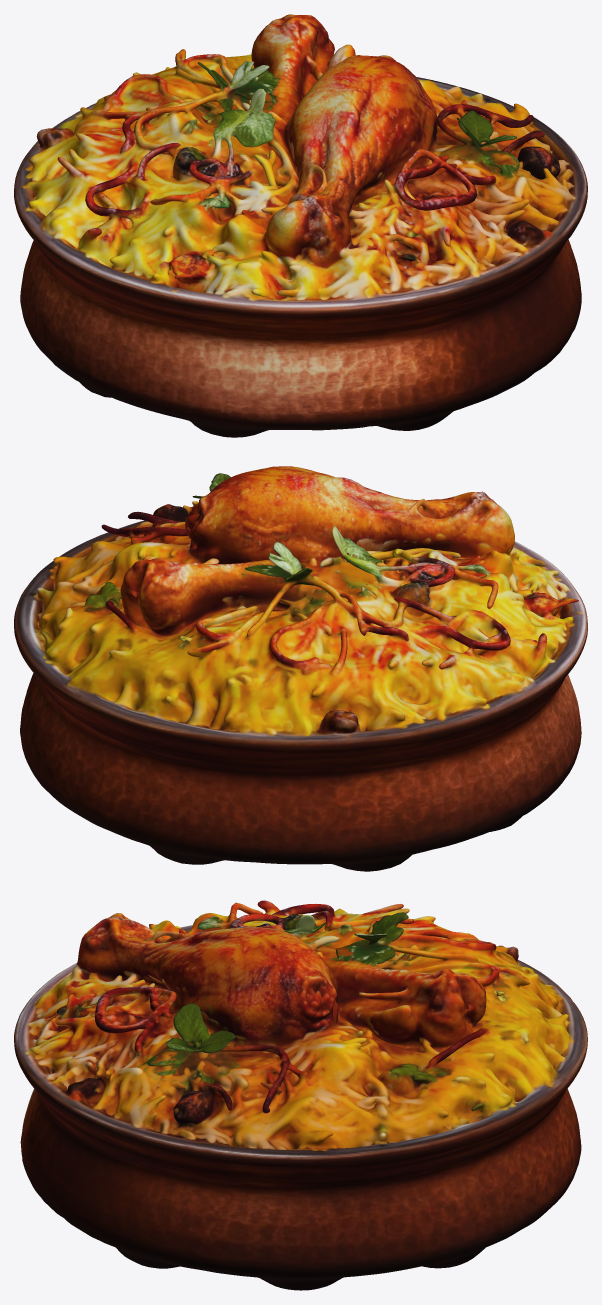
File: chicken-biryani.glb
The picture shows the model from 3 angles, top to bottom: view 1: azimuth 30°, elevation 25°; view 2: azimuth 150°, elevation 25°; view 3: azimuth 270°, elevation 25°; orthographic projection.
Visible parts, largest first — view 1: tripo_node_5f764aed; view 2: tripo_node_5f764aed; view 3: tripo_node_5f764aed.
Part boxes in pixels (box(x1,y1,x2,y2)): tripo_node_5f764aed: box(14, 14, 587, 437); tripo_node_5f764aed: box(14, 466, 587, 871); tripo_node_5f764aed: box(14, 900, 587, 1290).
Size of the model in its own units: 0.2397 by 0.1284 by 0.24.
1 material, 1 textured.
